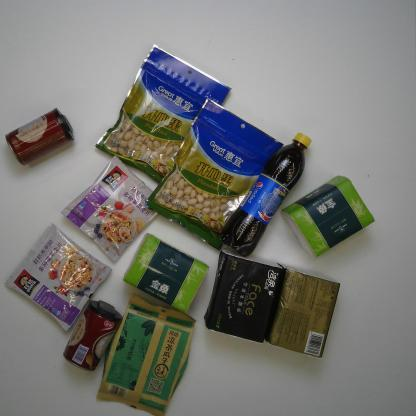Canned Food: (62, 299, 124, 371), (4, 106, 77, 167)
Dried Food: (95, 292, 198, 416)
Dried Fruit: (144, 96, 286, 252), (93, 42, 235, 184)
Drink: (219, 132, 313, 258)
Instant Drink: (2, 222, 115, 334), (60, 154, 161, 263)
Tissue: (280, 175, 376, 259), (202, 248, 284, 344), (263, 262, 340, 358), (122, 232, 210, 315)
